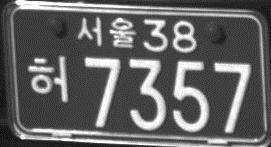3: (125, 55, 168, 131), (142, 16, 169, 52)
5: (172, 59, 210, 133)
7: (211, 60, 253, 133), (82, 55, 122, 128)
8: (171, 19, 198, 52)
서울_O: (76, 14, 136, 49)
허: (27, 54, 70, 103)
